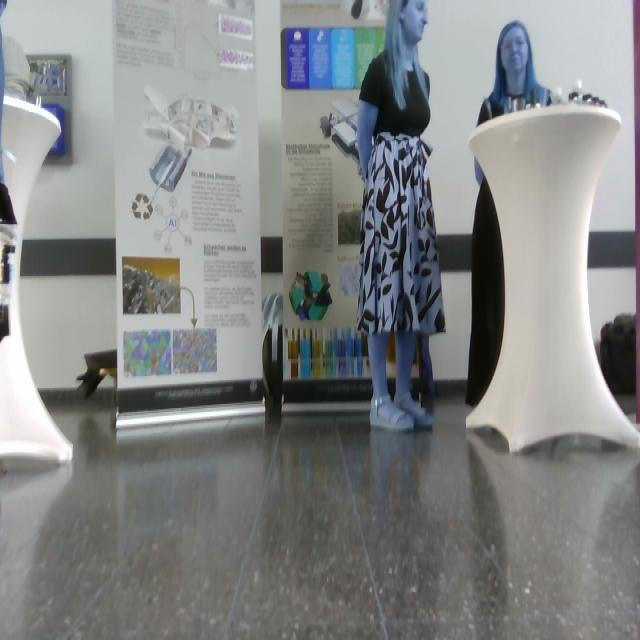light bulb: (1, 93, 74, 470), (142, 84, 238, 193)
person: (356, 1, 446, 433)
pillar: (465, 100, 639, 454)
tiled floor: (1, 381, 639, 638)
